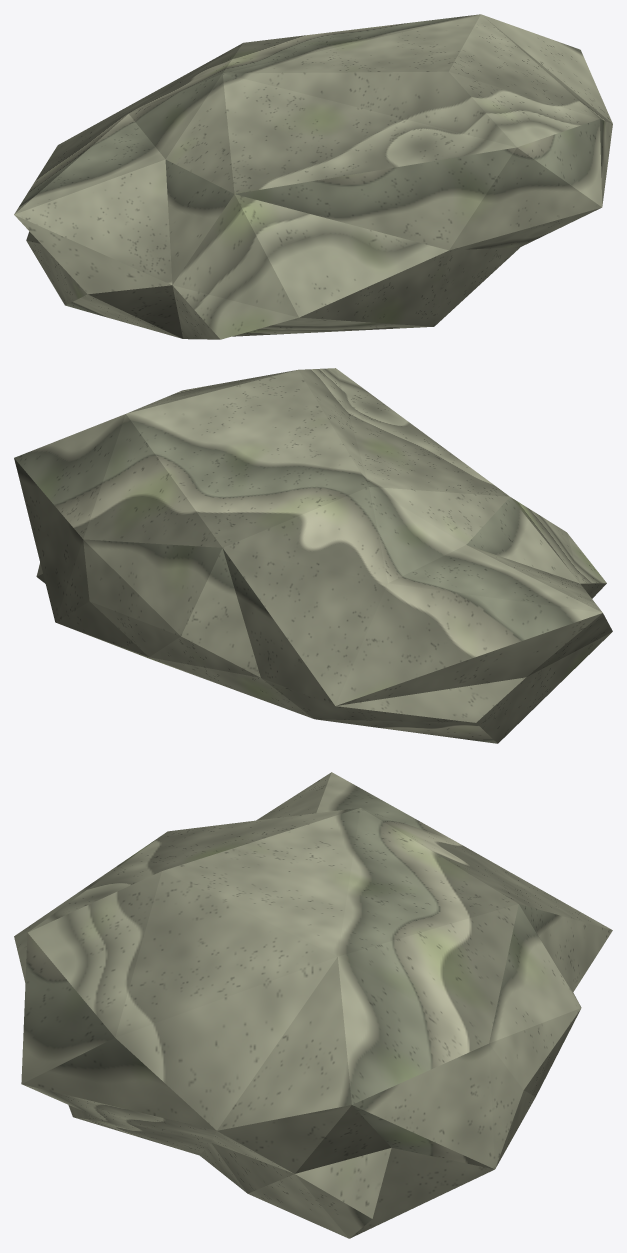
Rendered from slab_a.glb.
3 renders of one model, top to bottom at view 1: azimuth 30°, elevation 25°; view 2: azimuth 150°, elevation 25°; view 3: azimuth 270°, elevation 25°, orthographic. The views are drawn at different scales.
Visible parts, largest first — view 1: slab_a; view 2: slab_a; view 3: slab_a.
Boxes of the visible parts, left/top/right/bottom form: slab_a: left=14, top=14, right=612, bottom=339; slab_a: left=14, top=368, right=612, bottom=743; slab_a: left=14, top=772, right=612, bottom=1238.
Size of the model in its own units: 1.71 by 0.6606 by 1.22.
Materials: 1 (1 with a texture image).
